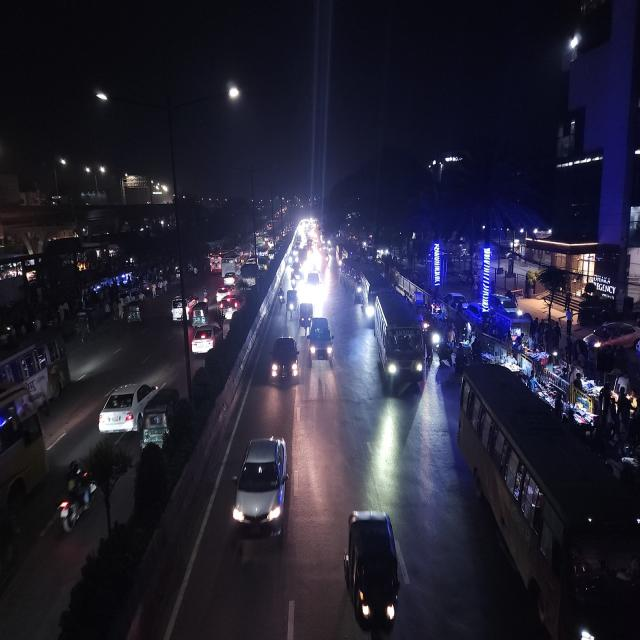bus: (458, 364, 639, 640), (1, 328, 72, 423), (370, 289, 428, 395), (220, 252, 237, 277), (206, 249, 222, 275)
car: (231, 431, 291, 545), (95, 376, 155, 436), (269, 333, 301, 389), (308, 313, 336, 368), (188, 320, 222, 360), (170, 292, 194, 324), (304, 270, 322, 298), (218, 296, 238, 321), (216, 284, 230, 301)
cng: (340, 505, 404, 640), (142, 382, 180, 450), (298, 300, 314, 338), (126, 296, 144, 324), (191, 299, 208, 326), (286, 288, 297, 318)
motorcycle: (56, 457, 98, 537), (276, 286, 286, 312)
pedestrian: (453, 341, 467, 374)
